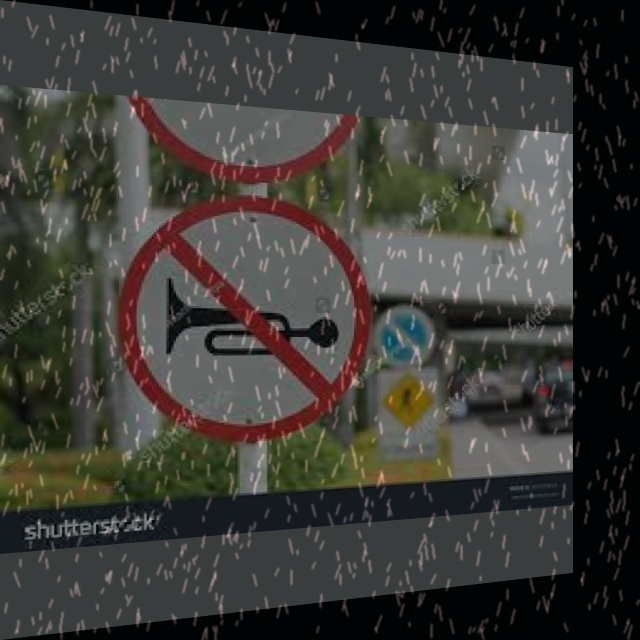Horn_Prohibited: (136, 195, 359, 439)
